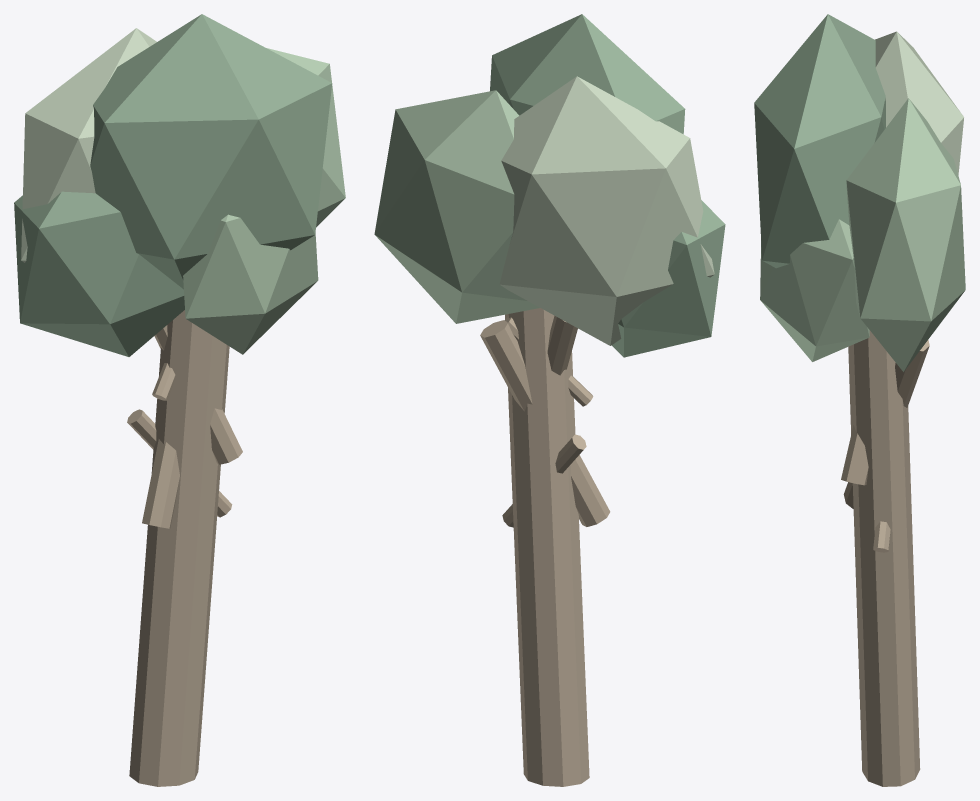
The model's file is TREE_EUCALYPTUS_001_LOD_CLOSE.glb.
The picture shows the model from 3 angles, left to right: view 1: azimuth 30°, elevation 25°; view 2: azimuth 150°, elevation 25°; view 3: azimuth 270°, elevation 25°; orthographic projection. The views are drawn at different scales.
Visible parts, largest first — view 1: TREE_EUCALYPTUS_001_CANOPY_001_C, TREE_EUCALYPTUS_001_TRUNK, TREE_EUCALYPTUS_001_CANOPY_001_E, TREE_EUCALYPTUS_001_CANOPY_001_D, TREE_EUCALYPTUS_001_CANOPY_001_A, TREE_EUCALYPTUS_001_CANOPY_001_B, TREE_EUCALYPTUS_001_BRANCH_LARGE_001_A, TREE_EUCALYPTUS_001_BRANCH_LARGE_001_B, TREE_EUCALYPTUS_001_BRANCH_SMALL_001_A; view 2: TREE_EUCALYPTUS_001_CANOPY_001_A, TREE_EUCALYPTUS_001_TRUNK, TREE_EUCALYPTUS_001_CANOPY_001_B, TREE_EUCALYPTUS_001_CANOPY_001_C, TREE_EUCALYPTUS_001_CANOPY_001_E, TREE_EUCALYPTUS_001_BRANCH_LARGE_001_A, TREE_EUCALYPTUS_001_BRANCH_LARGE_001_B, TREE_EUCALYPTUS_001_BRANCH_SMALL_001_A; view 3: TREE_EUCALYPTUS_001_TRUNK, TREE_EUCALYPTUS_001_CANOPY_001_B, TREE_EUCALYPTUS_001_CANOPY_001_C, TREE_EUCALYPTUS_001_CANOPY_001_D, TREE_EUCALYPTUS_001_CANOPY_001_A, TREE_EUCALYPTUS_001_BRANCH_LARGE_001_A, TREE_EUCALYPTUS_001_BRANCH_LARGE_001_B, TREE_EUCALYPTUS_001_BRANCH_SMALL_001_A.
Part boxes in pixels (box(x1,y1,x2,y2)): TREE_EUCALYPTUS_001_CANOPY_001_C: box(90, 14, 332, 289); TREE_EUCALYPTUS_001_TRUNK: box(129, 310, 229, 786); TREE_EUCALYPTUS_001_CANOPY_001_E: box(14, 191, 184, 356); TREE_EUCALYPTUS_001_CANOPY_001_D: box(183, 214, 318, 354); TREE_EUCALYPTUS_001_CANOPY_001_A: box(21, 28, 156, 262); TREE_EUCALYPTUS_001_CANOPY_001_B: box(266, 48, 345, 227); TREE_EUCALYPTUS_001_BRANCH_LARGE_001_A: box(142, 439, 179, 528); TREE_EUCALYPTUS_001_BRANCH_LARGE_001_B: box(154, 325, 242, 464); TREE_EUCALYPTUS_001_BRANCH_SMALL_001_A: box(127, 409, 232, 517); TREE_EUCALYPTUS_001_CANOPY_001_A: box(499, 76, 714, 345); TREE_EUCALYPTUS_001_TRUNK: box(505, 308, 589, 786); TREE_EUCALYPTUS_001_CANOPY_001_B: box(374, 90, 539, 323); TREE_EUCALYPTUS_001_CANOPY_001_C: box(490, 14, 685, 134); TREE_EUCALYPTUS_001_CANOPY_001_E: box(612, 200, 725, 357); TREE_EUCALYPTUS_001_BRANCH_LARGE_001_A: box(480, 320, 610, 526); TREE_EUCALYPTUS_001_BRANCH_LARGE_001_B: box(547, 315, 577, 375); TREE_EUCALYPTUS_001_BRANCH_SMALL_001_A: box(502, 434, 586, 527); TREE_EUCALYPTUS_001_TRUNK: box(848, 330, 920, 786); TREE_EUCALYPTUS_001_CANOPY_001_B: box(846, 98, 965, 371); TREE_EUCALYPTUS_001_CANOPY_001_C: box(754, 14, 885, 268); TREE_EUCALYPTUS_001_CANOPY_001_D: box(760, 219, 869, 361); TREE_EUCALYPTUS_001_CANOPY_001_A: box(875, 31, 963, 175); TREE_EUCALYPTUS_001_BRANCH_LARGE_001_A: box(843, 340, 929, 508); TREE_EUCALYPTUS_001_BRANCH_LARGE_001_B: box(841, 425, 868, 485); TREE_EUCALYPTUS_001_BRANCH_SMALL_001_A: box(873, 521, 890, 552).
Bounding box in the file's own units: 2.28 × 5.21 × 1.31.
